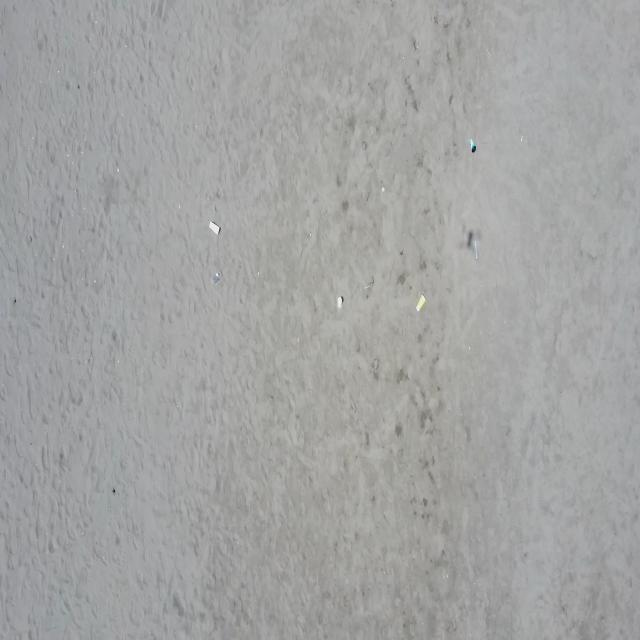takeaway-cup: (416, 294, 427, 312), (209, 220, 220, 237), (211, 270, 222, 285), (473, 240, 480, 260), (469, 139, 476, 153), (337, 296, 344, 309)
